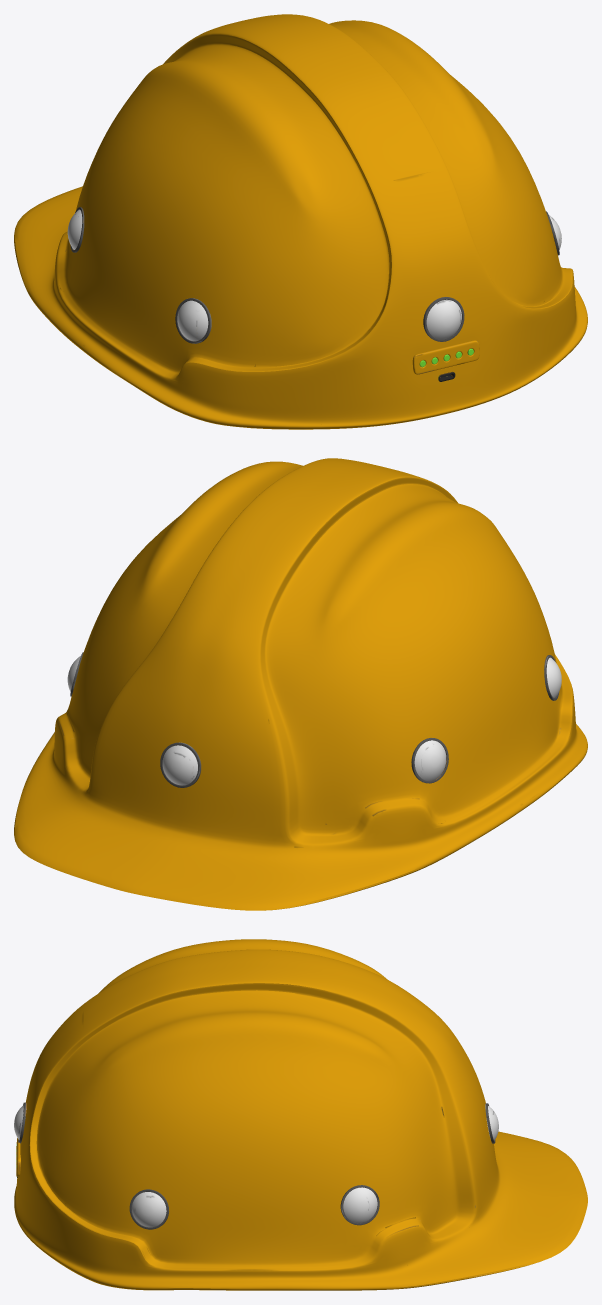
Rendered from Каска.glb.
3 renders of one model, top to bottom at view 1: azimuth 30°, elevation 25°; view 2: azimuth 150°, elevation 25°; view 3: azimuth 270°, elevation 25°, orthographic. The views are drawn at different scales.
Visible parts, largest first — view 1: Каска_Baked; view 2: Каска_Baked; view 3: Каска_Baked.
Part boxes in pixels (left/top/right/bottom): Каска_Baked: left=14, top=14, right=587, bottom=429; Каска_Baked: left=14, top=458, right=587, bottom=910; Каска_Baked: left=14, top=939, right=587, bottom=1290.
Bounding box in the file's own units: 0.283 × 0.166 × 0.3574.
1 material, 1 textured.
